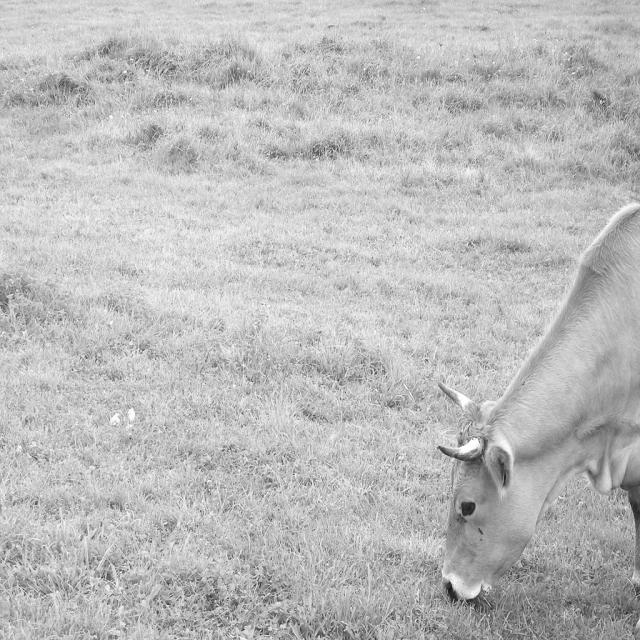cow: (439, 205, 640, 598)
